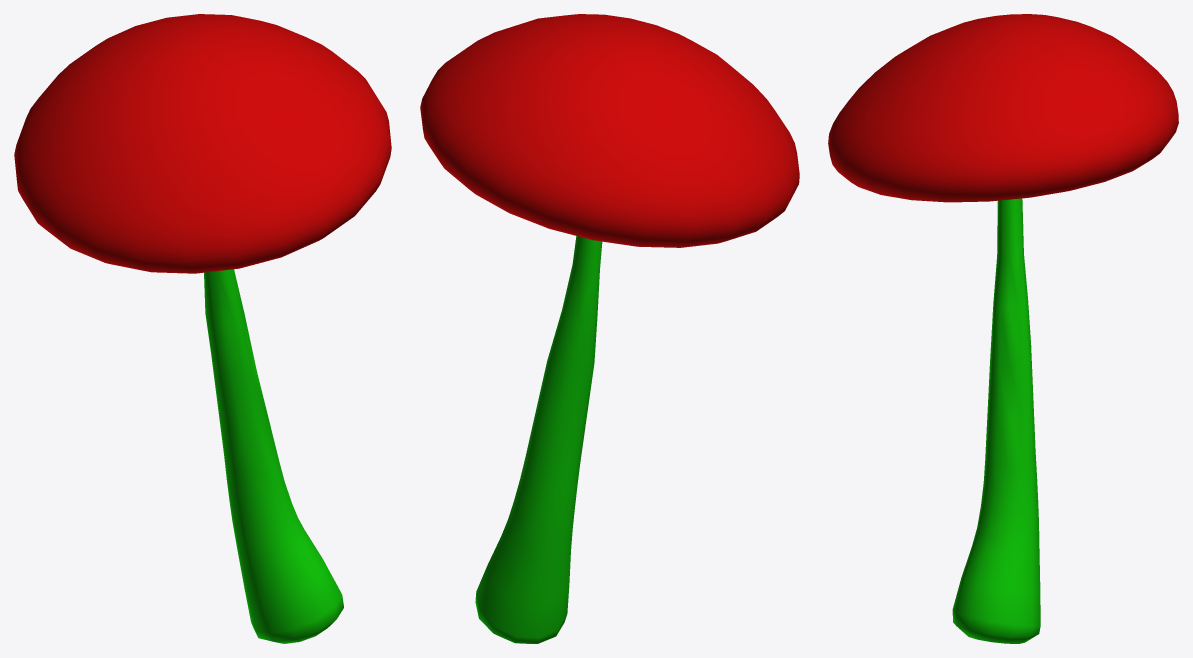
The model's file is LMR_l 1.fbx.
3 views of the same model, side by side, from view 1: azimuth 30°, elevation 25°; view 2: azimuth 150°, elevation 25°; view 3: azimuth 270°, elevation 25° (orthographic). The views are drawn at different scales.
Visible parts, largest first — view 1: LMR_l; view 2: LMR_l; view 3: LMR_l.
Boxes of the visible parts, x1,y1,x2,y2 form: LMR_l: (14, 14, 391, 643); LMR_l: (420, 14, 799, 643); LMR_l: (828, 14, 1178, 643).
Bounding box in the file's own units: 293 × 292 × 530.
